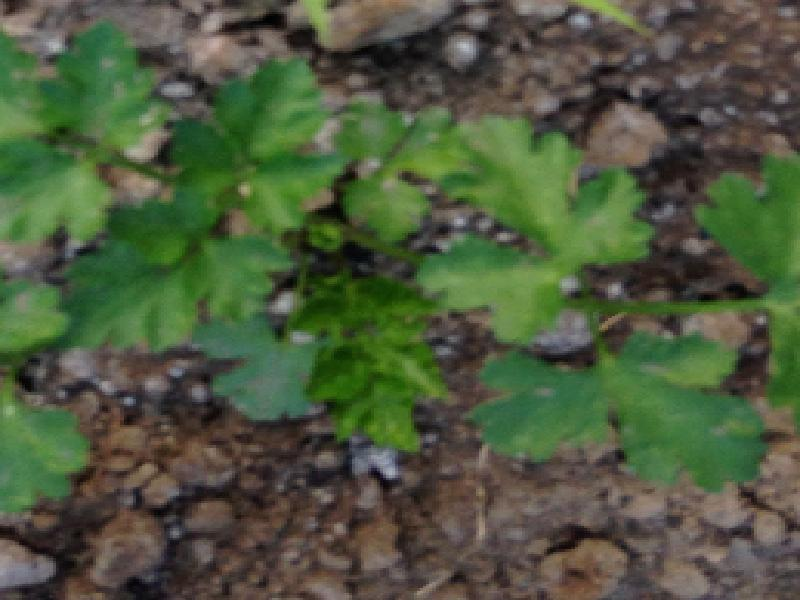radish: (0, 19, 800, 514)
